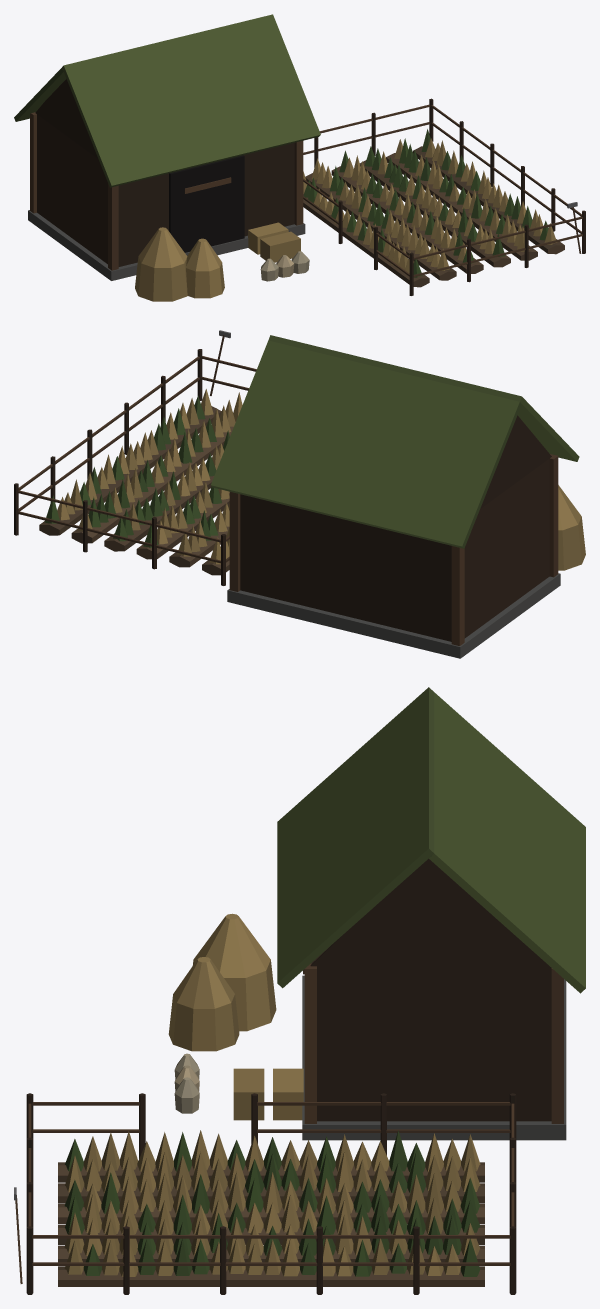
File: walk_rime_farm.glb
3 views of the same model, one above another, from view 1: azimuth 30°, elevation 25°; view 2: azimuth 150°, elevation 25°; view 3: azimuth 270°, elevation 25° (orthographic). The views are drawn at different scales.
Parts seen in each view (by area): view 1: walk_rime_farm, walk_rime_farm_roof; view 2: walk_rime_farm, walk_rime_farm_roof; view 3: walk_rime_farm, walk_rime_farm_roof.
Boxes of the visible parts, box(x1,y1,x2,y2) form: walk_rime_farm: box(28, 79, 585, 301); walk_rime_farm_roof: box(14, 14, 320, 187); walk_rime_farm: box(14, 330, 585, 658); walk_rime_farm_roof: box(211, 335, 579, 548); walk_rime_farm: box(14, 858, 566, 1294); walk_rime_farm_roof: box(277, 687, 585, 993).
Size of what is drawn, in the model's own units: 12.85 by 6.04 by 10.18.
Materials: 2 (2 with a texture image).
